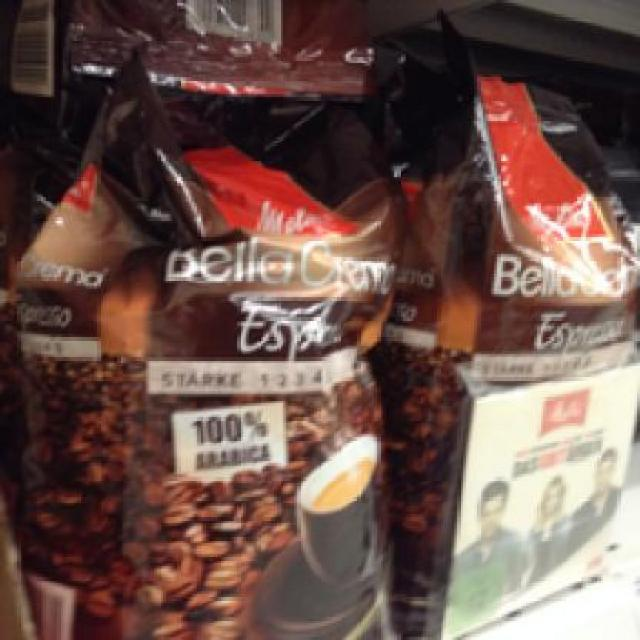Coffee: (12, 57, 394, 637), (388, 60, 638, 637)
